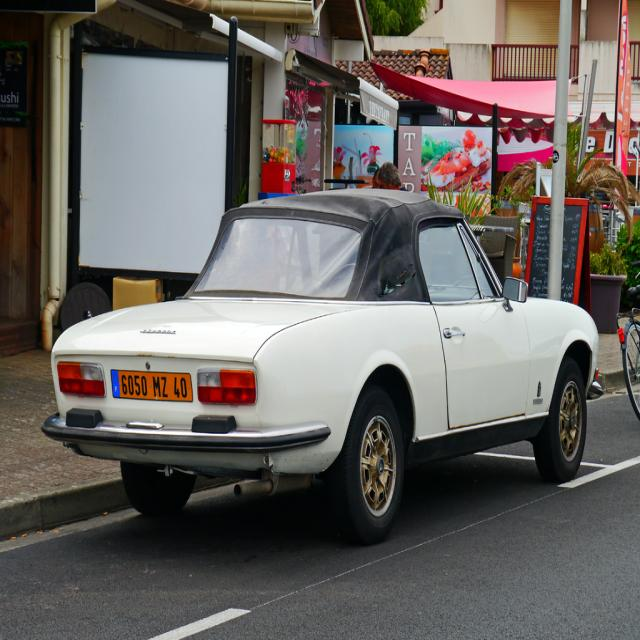car: (38, 187, 601, 544)
